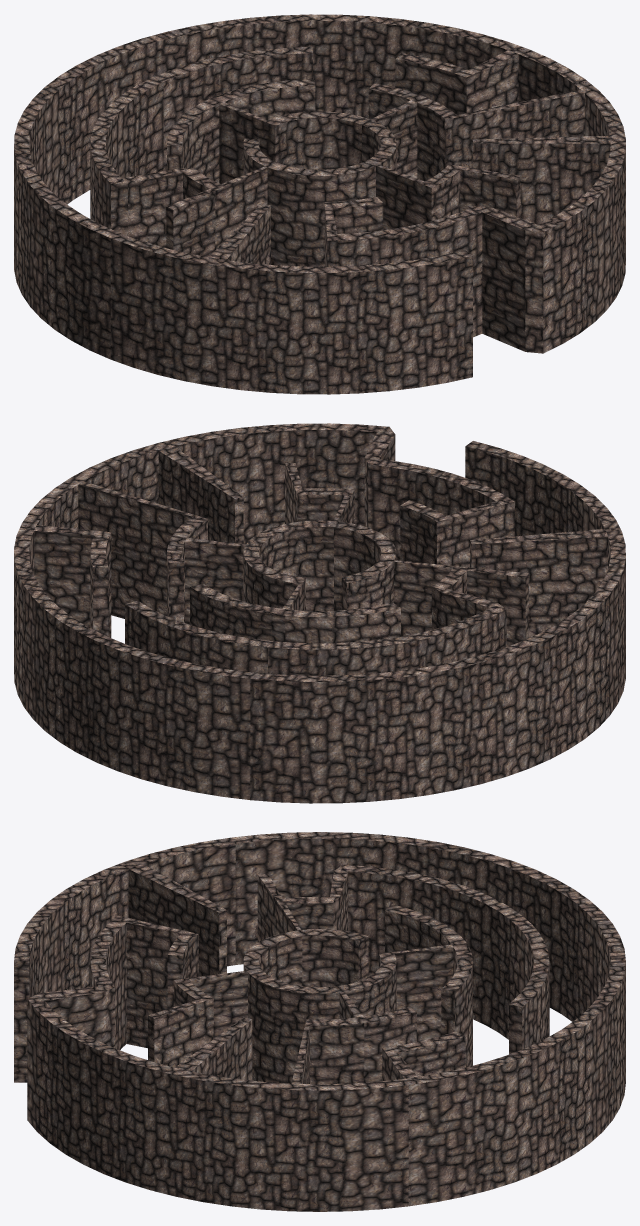
The model's file is HardMaze_4_flipped.dae.
3 renders of one model, top to bottom at view 1: azimuth 30°, elevation 25°; view 2: azimuth 150°, elevation 25°; view 3: azimuth 270°, elevation 25°, orthographic.
Parts seen in each view (by area): view 1: Plane; view 2: Plane; view 3: Plane.
Part boxes in pixels (bbox=[...]): Plane: bbox=[14, 14, 625, 394]; Plane: bbox=[14, 423, 625, 803]; Plane: bbox=[14, 832, 625, 1211].
Size of the model in its own units: 32 by 32 by 7.
